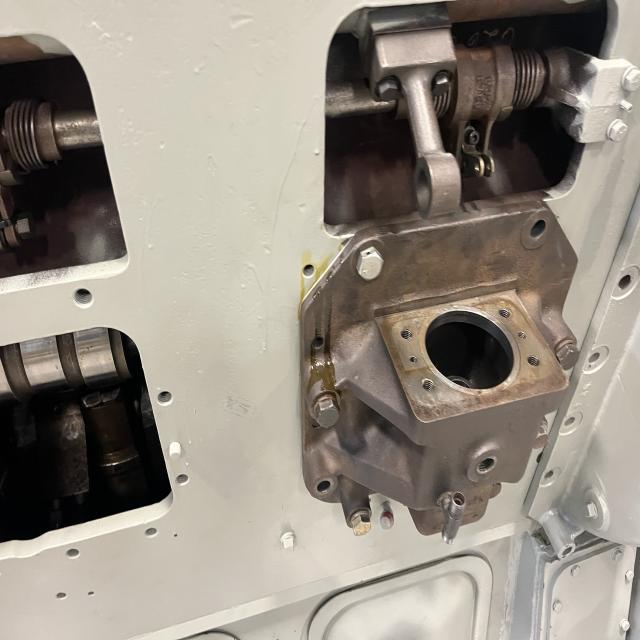Oil Leak: (295, 259, 343, 447)
